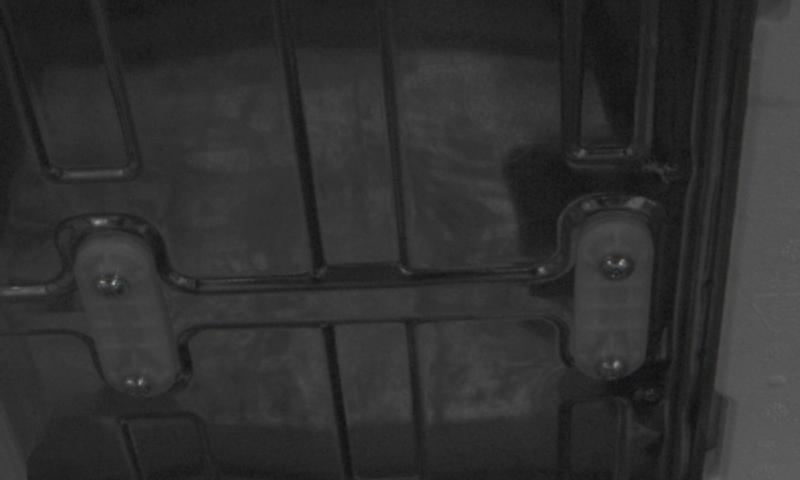vida-ok: (588, 252, 635, 295), (82, 270, 127, 314), (586, 352, 632, 391), (112, 370, 158, 409)
